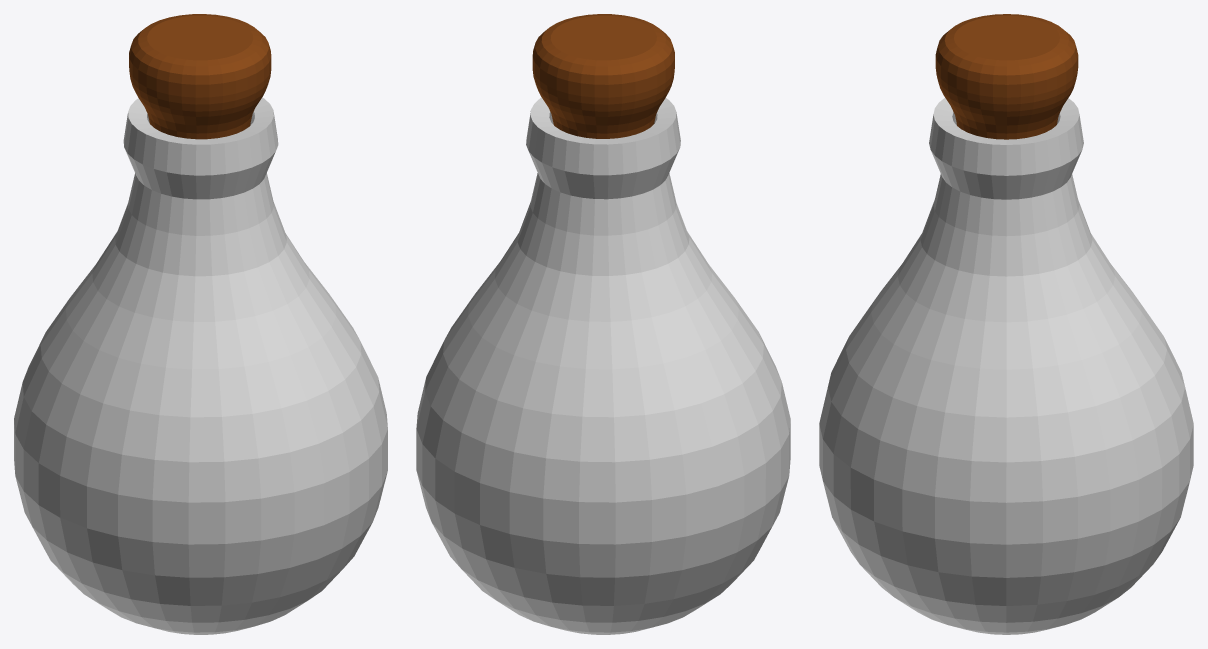
The model's file is kirmizi_sise_finito.fbx.
The picture shows the model from 3 angles, left to right: view 1: azimuth 30°, elevation 25°; view 2: azimuth 150°, elevation 25°; view 3: azimuth 270°, elevation 25°; orthographic projection.
Visible parts, largest first — view 1: kirmizi_sise_cam, kirmizi_sise_kapak; view 2: kirmizi_sise_cam, kirmizi_sise_kapak; view 3: kirmizi_sise_cam, kirmizi_sise_kapak.
Part boxes in pixels (bbox=[...]): kirmizi_sise_cam: bbox=[14, 97, 387, 634]; kirmizi_sise_kapak: bbox=[129, 14, 271, 139]; kirmizi_sise_cam: bbox=[416, 97, 790, 634]; kirmizi_sise_kapak: bbox=[532, 14, 674, 138]; kirmizi_sise_cam: bbox=[819, 98, 1193, 634]; kirmizi_sise_kapak: bbox=[935, 14, 1078, 139].
Size of the model in its own units: 0.2774 by 0.4735 by 0.2774.
